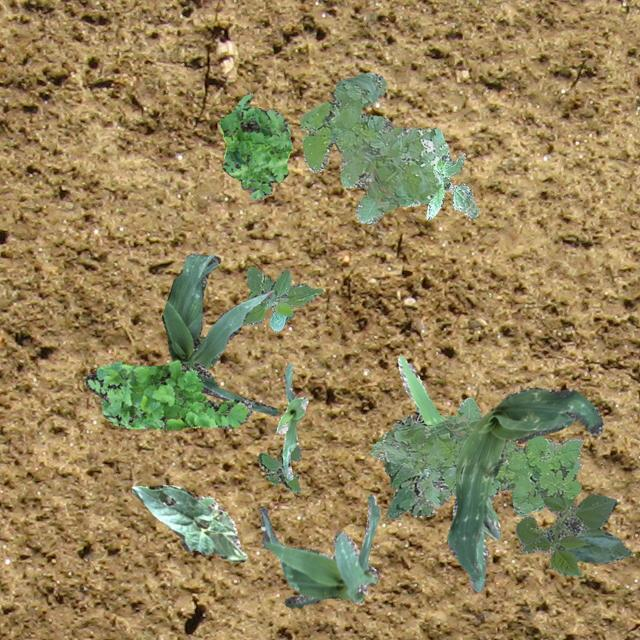crop: (447, 386, 602, 580), (396, 354, 499, 590), (160, 252, 280, 414), (258, 492, 378, 606), (514, 492, 630, 576), (130, 484, 247, 560), (240, 266, 322, 332), (276, 362, 306, 478)
weed: (370, 396, 582, 516), (299, 72, 446, 224), (85, 358, 252, 429), (218, 92, 290, 198), (384, 403, 434, 518), (426, 148, 476, 218), (256, 444, 300, 492)
